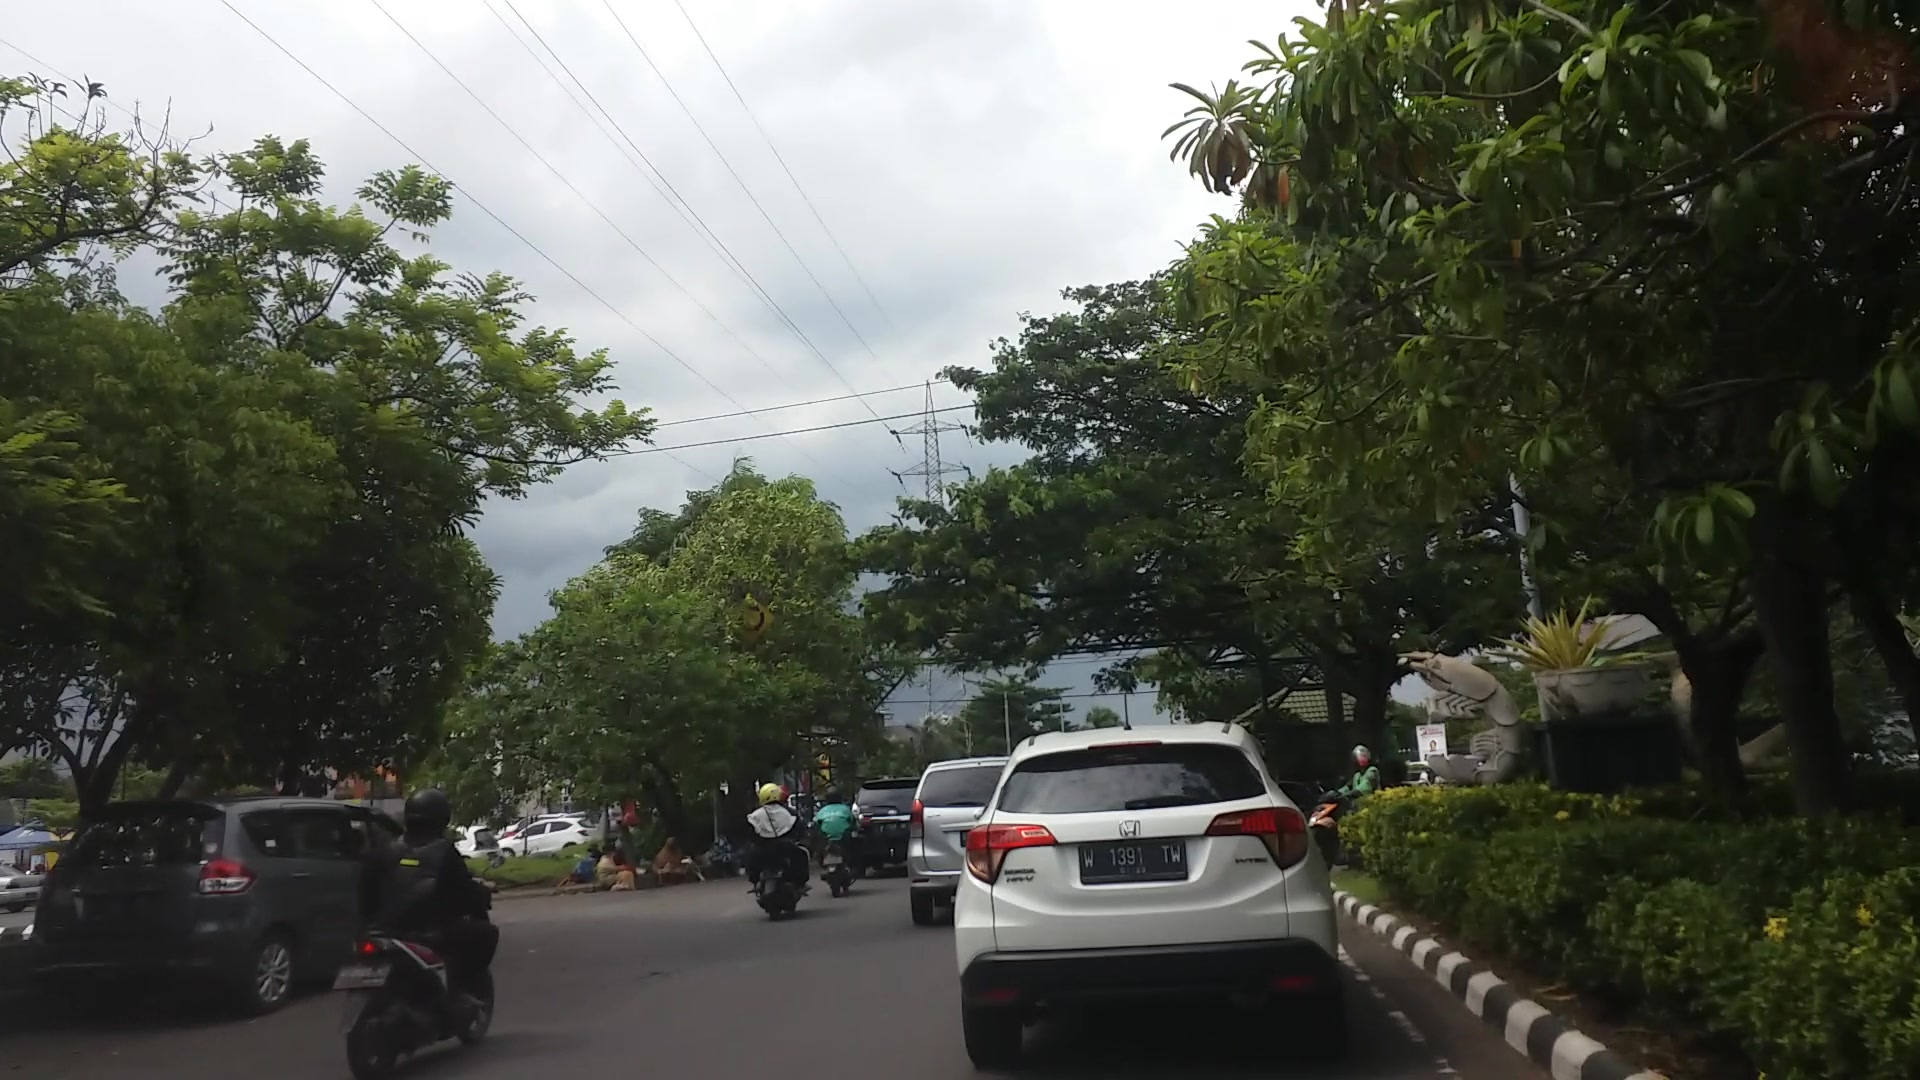plate_positive: (1077, 840, 1188, 884)
